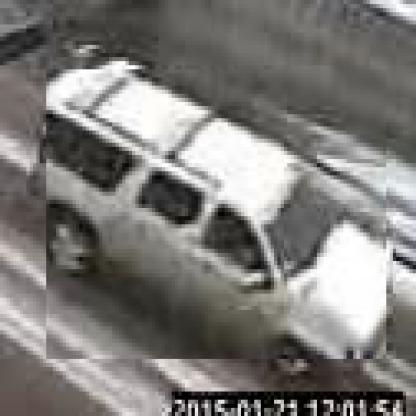car: (47, 70, 391, 364)
